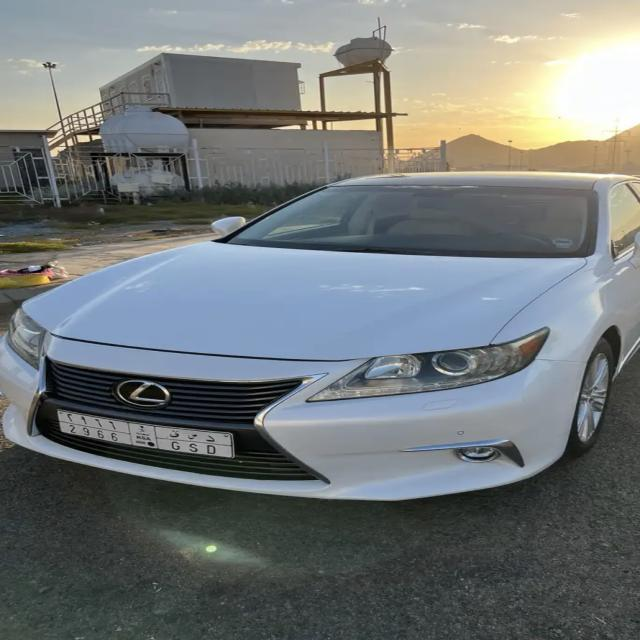license_plate: (58, 411, 236, 458)
